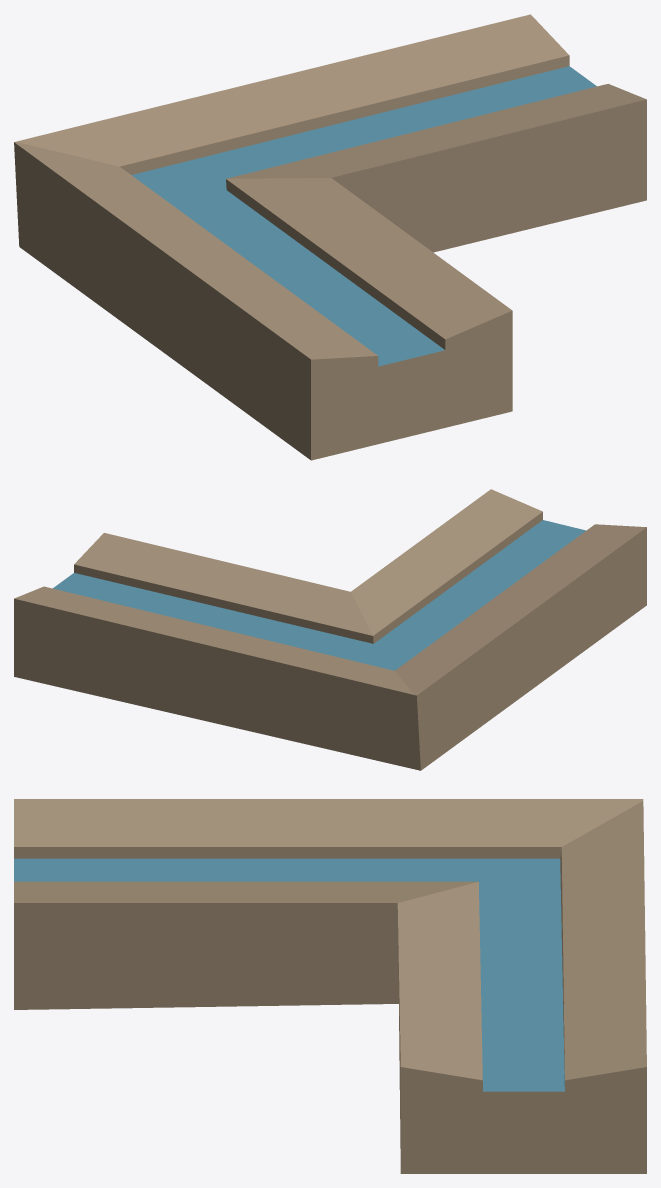
Rendered from ObjS_GutterTurn.fbx.
3 renders of one model, top to bottom at view 1: azimuth 30°, elevation 25°; view 2: azimuth 150°, elevation 25°; view 3: azimuth 270°, elevation 25°, orthographic. The views are drawn at different scales.
Visible parts, largest first — view 1: gutter3; view 2: gutter3; view 3: gutter3.
Part boxes in pixels (bbox=[...]): gutter3: bbox=[14, 14, 646, 460]; gutter3: bbox=[14, 489, 646, 770]; gutter3: bbox=[14, 799, 646, 1173].
Size of the model in its own units: 101 by 18.75 by 101.
